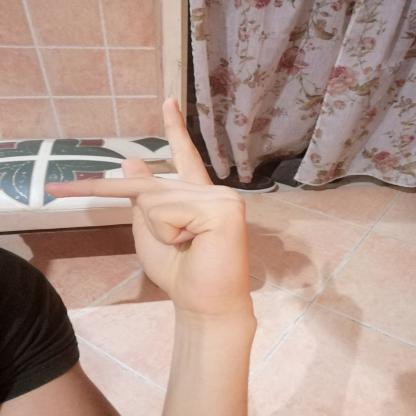DHAA: (35, 85, 266, 320)
